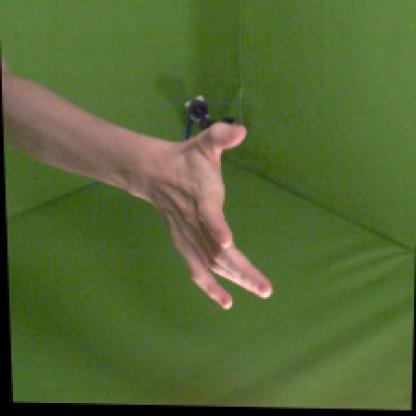Hand: (160, 122, 274, 310)
